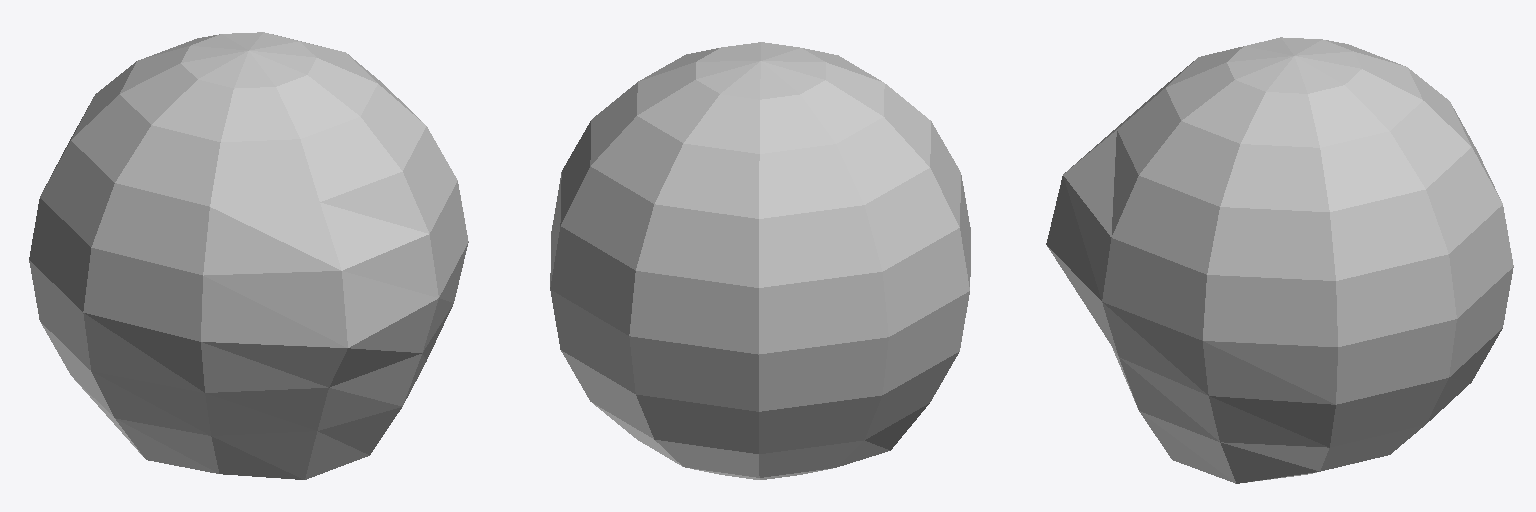
File: head1.obj
The picture shows the model from 3 angles: view 1: azimuth 30°, elevation 25°; view 2: azimuth 150°, elevation 25°; view 3: azimuth 270°, elevation 25°; orthographic projection.
Visible parts, largest first — view 1: Sphere; view 2: Sphere; view 3: Sphere.
Boxes of the visible parts, box(x1,y1,x2,y2) form: Sphere: box(29, 32, 468, 479); Sphere: box(550, 42, 970, 479); Sphere: box(1046, 37, 1513, 483).
Size of the model in its own units: 0.6861 by 0.7 by 0.741.